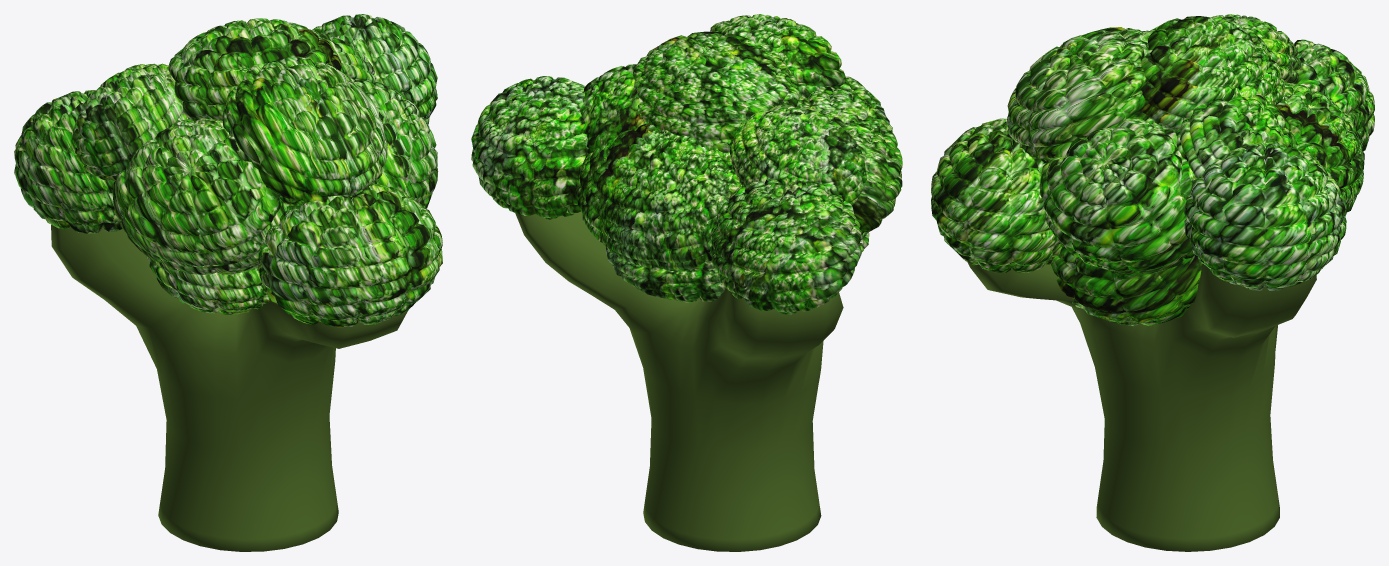
File: Broccoil 1.fbx
3 renders of one model, left to right at view 1: azimuth 30°, elevation 25°; view 2: azimuth 150°, elevation 25°; view 3: azimuth 270°, elevation 25°, orthographic. The views are drawn at different scales.
Visible parts, largest first — view 1: pSphere21; view 2: pSphere21; view 3: pSphere21.
Part boxes in pixels (box(x1,y1,x2,y2)): pSphere21: box(14, 14, 442, 551); pSphere21: box(471, 14, 902, 551); pSphere21: box(931, 14, 1374, 551).
Bounding box in the file's own units: 1.4 × 1.67 × 1.37.
